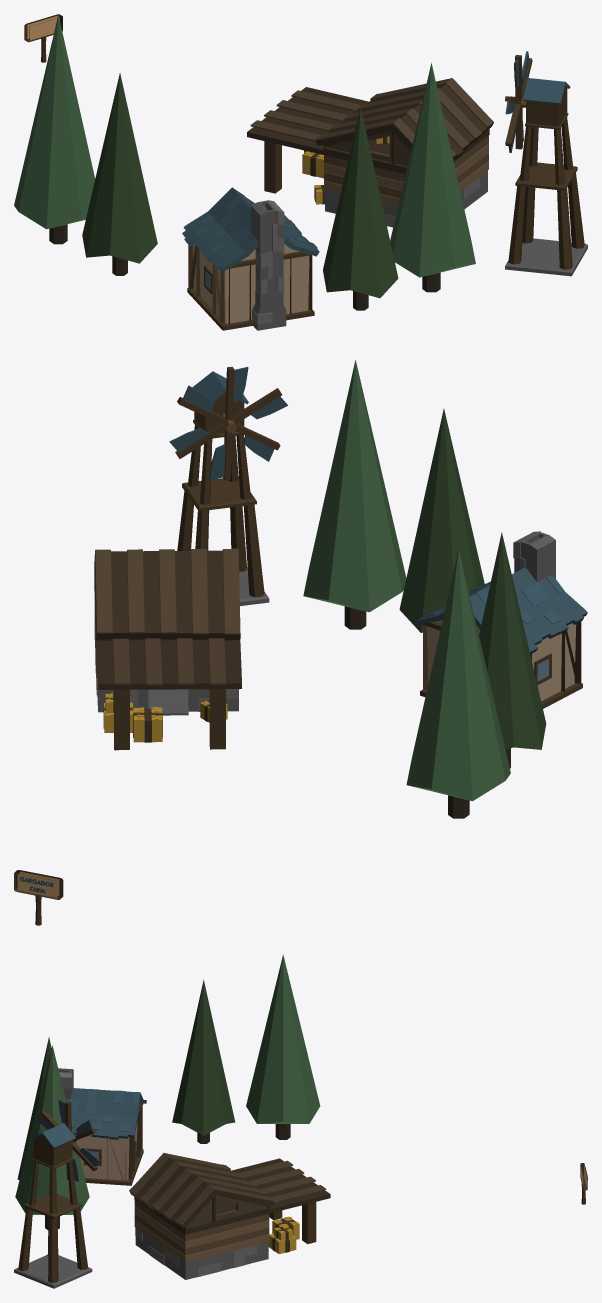
Rendered from Gargadok.glb.
The picture shows the model from 3 angles, top to bottom: view 1: azimuth 30°, elevation 25°; view 2: azimuth 150°, elevation 25°; view 3: azimuth 270°, elevation 25°; orthographic projection. The views are drawn at different scales.
Visible parts, largest first — view 1: Barn-1, Gargadok House.001, Small Tree.017, Small Tree.016, Weather Mill, Small Tree.015, Small Tree.018, WeatherMillFan, Gargadok Farm Sign; view 2: Barn-1, Small Tree.016, Small Tree.017, Gargadok House.001, Small Tree.018, Weather Mill, Small Tree.015, WeatherMillFan, Gargadok Farm Sign; view 3: Barn-1, Small Tree.016, Gargadok House.001, Weather Mill, Small Tree.015, Small Tree.017, WeatherMillFan, Small Tree.018.
Boxes of the visible parts, <box> form: Barn-1: <box>247,78,493,227</box>; Gargadok House.001: <box>182,187,319,330</box>; Small Tree.017: <box>390,63,475,292</box>; Small Tree.016: <box>14,15,95,244</box>; Weather Mill: <box>505,78,587,276</box>; Small Tree.015: <box>82,73,157,275</box>; Small Tree.018: <box>323,107,398,310</box>; WeatherMillFan: <box>505,51,532,152</box>; Gargadok Farm Sign: <box>24,14,62,62</box>; Barn-1: <box>94,548,241,750</box>; Small Tree.016: <box>406,549,510,818</box>; Small Tree.017: <box>303,360,406,629</box>; Gargadok House.001: <box>415,531,587,708</box>; Small Tree.018: <box>399,408,484,632</box>; Weather Mill: <box>177,371,269,605</box>; Small Tree.015: <box>479,532,546,768</box>; WeatherMillFan: <box>169,366,287,480</box>; Gargadok Farm Sign: <box>14,870,63,925</box>; Barn-1: <box>129,1153,330,1279</box>; Small Tree.016: <box>246,954,320,1139</box>; Gargadok House.001: <box>58,1068,146,1185</box>; Weather Mill: <box>14,1123,92,1288</box>; Small Tree.015: <box>172,980,235,1143</box>; Small Tree.017: <box>15,1045,89,1229</box>; WeatherMillFan: <box>38,1099,99,1181</box>; Small Tree.018: <box>17,1037,51,1179</box>.
Bounding box in the file's own units: 2.25 × 1.14 × 3.24.
